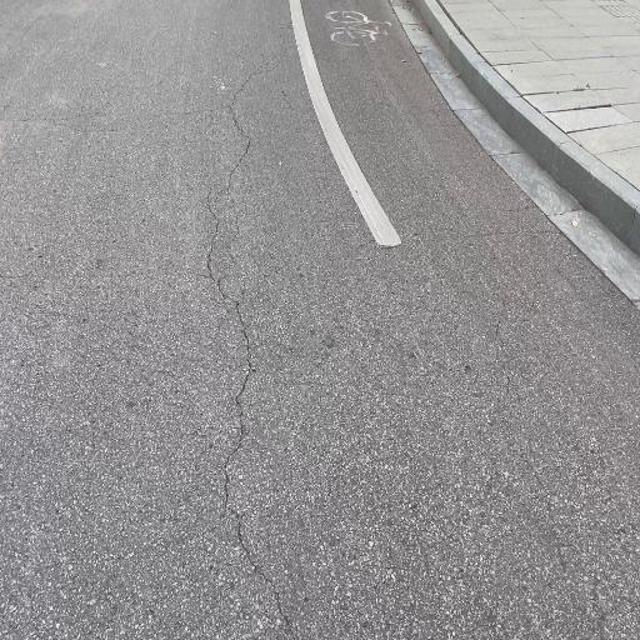Memanjang: (187, 93, 323, 639)
